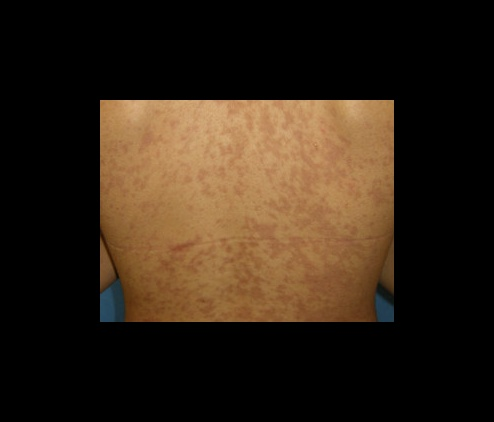SJS-TEN: (93, 95, 403, 329)
